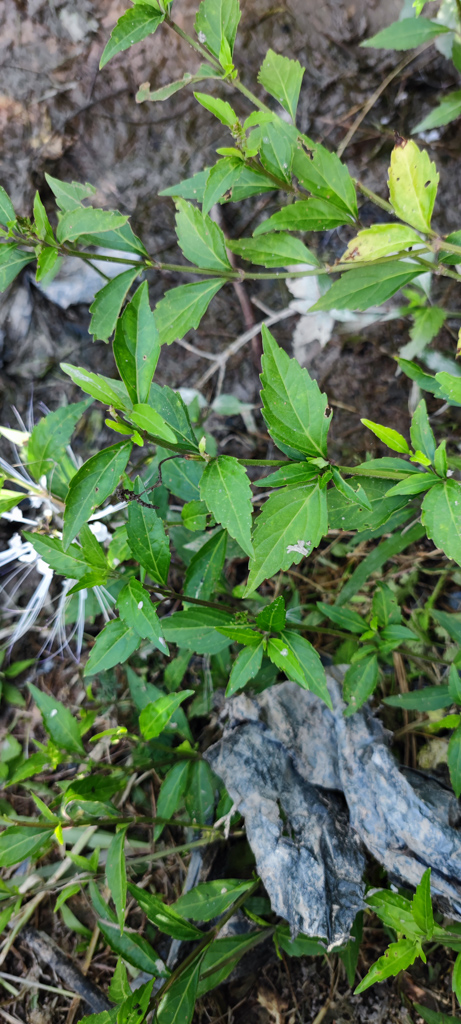Pepper yellow leaf: (384, 132, 444, 236), (336, 223, 423, 269)
